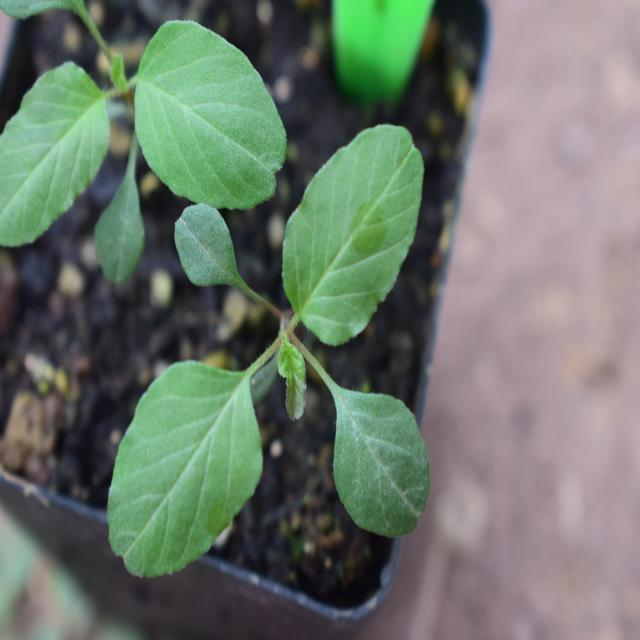pigweed: (121, 198, 436, 578), (1, 44, 294, 195)
